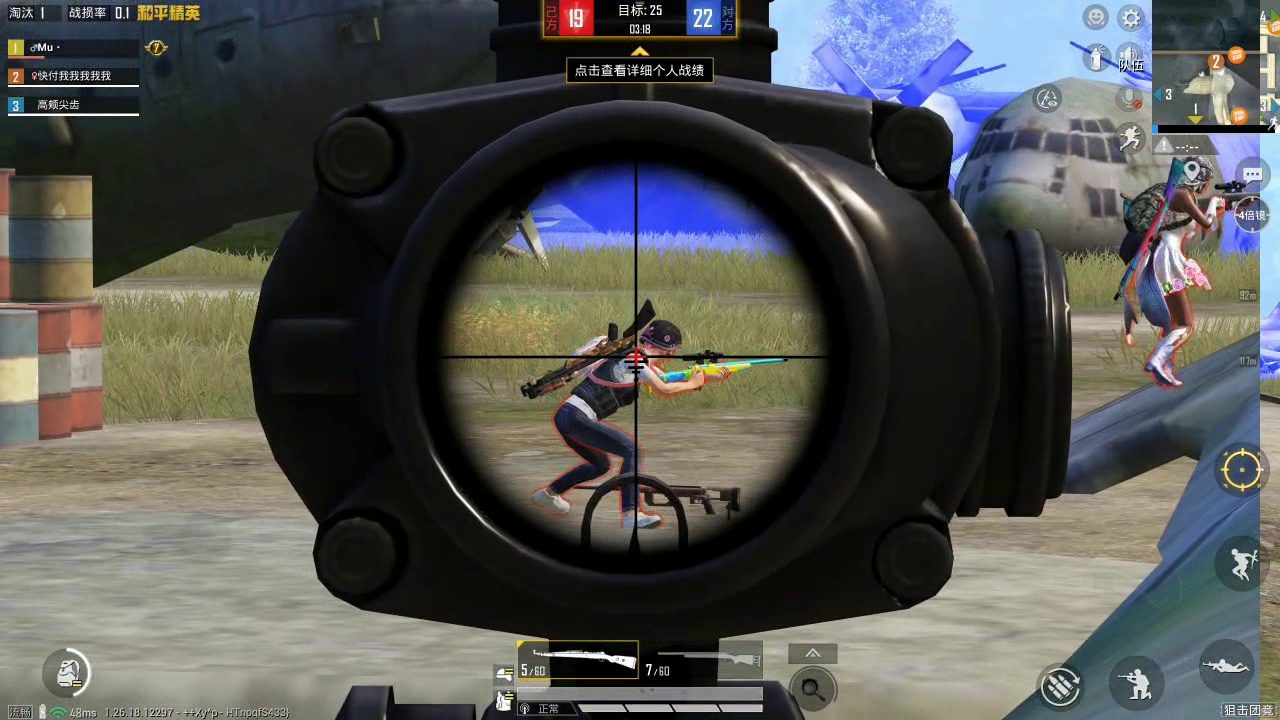enemy: (552, 321, 687, 524), (1125, 155, 1216, 389)
